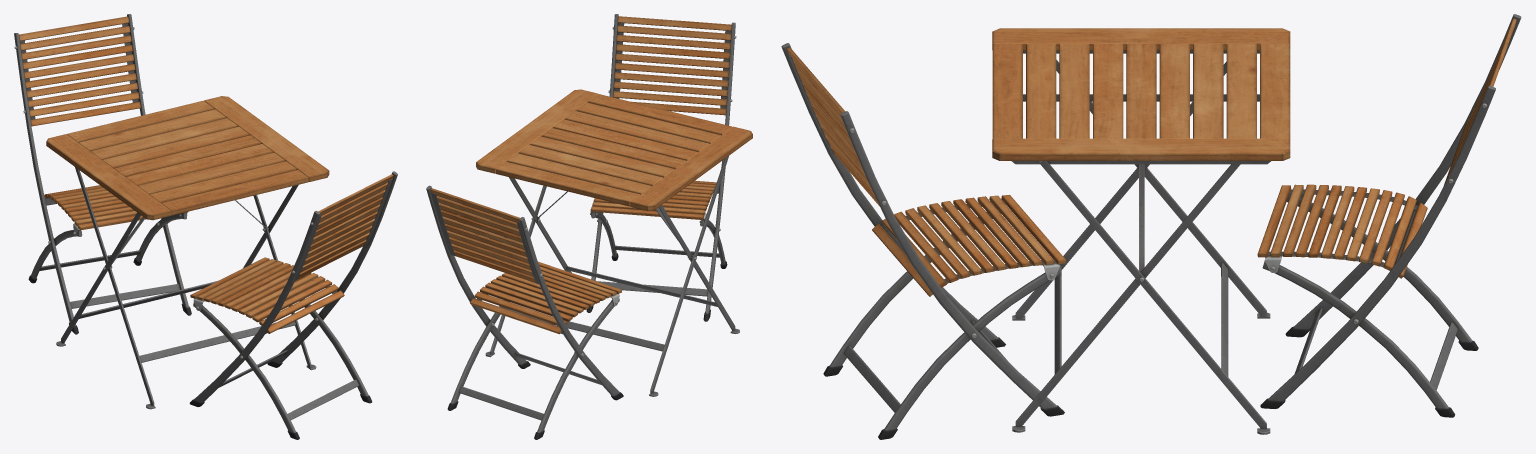
File: outdoor-table-chair-set-01.glb
The picture shows the model from 3 angles, left to right: view 1: azimuth 30°, elevation 25°; view 2: azimuth 150°, elevation 25°; view 3: azimuth 270°, elevation 25°; orthographic projection. The views are drawn at different scales.
Visible parts, largest first — view 1: outdoor_table_chair_set_01_table, outdoor_table_chair_set_01_chair_02, outdoor_table_chair_set_01_chair_01; view 2: outdoor_table_chair_set_01_table, outdoor_table_chair_set_01_chair_02, outdoor_table_chair_set_01_chair_01; view 3: outdoor_table_chair_set_01_table, outdoor_table_chair_set_01_chair_01, outdoor_table_chair_set_01_chair_02.
Boxes of the visible parts, <box> form: outdoor_table_chair_set_01_table: <box>46,96,329,409</box>; outdoor_table_chair_set_01_chair_02: <box>14,14,191,334</box>; outdoor_table_chair_set_01_chair_01: <box>189,171,397,439</box>; outdoor_table_chair_set_01_table: <box>476,89,752,396</box>; outdoor_table_chair_set_01_chair_02: <box>426,185,623,439</box>; outdoor_table_chair_set_01_chair_01: <box>586,14,736,321</box>; outdoor_table_chair_set_01_table: <box>992,28,1290,434</box>; outdoor_table_chair_set_01_chair_01: <box>781,43,1066,439</box>; outdoor_table_chair_set_01_chair_02: <box>1257,14,1521,417</box>.
Size of the model in its own units: 0.7412 by 0.8585 by 1.72.
2 materials, 2 textured.
